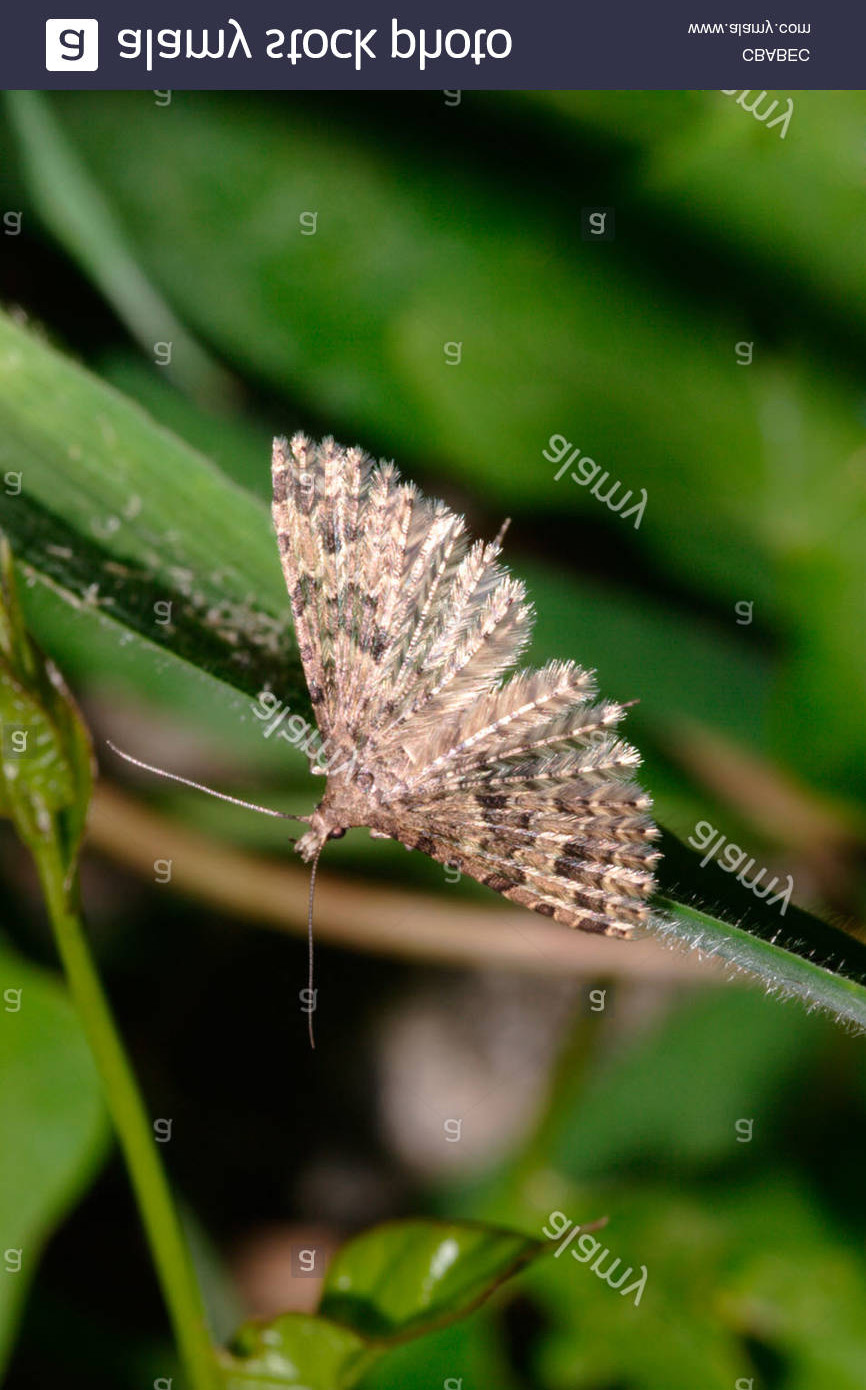Alucitidae: (105, 424, 662, 1044)
moth: (107, 426, 664, 1046)
